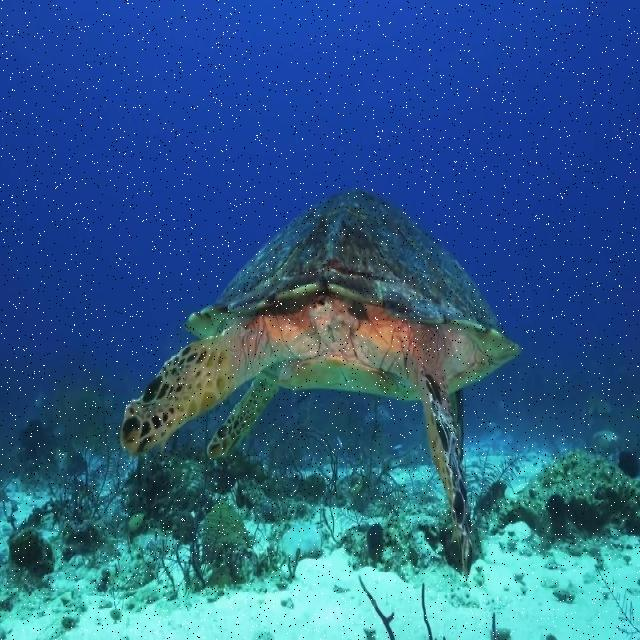fish: (121, 190, 520, 577)
